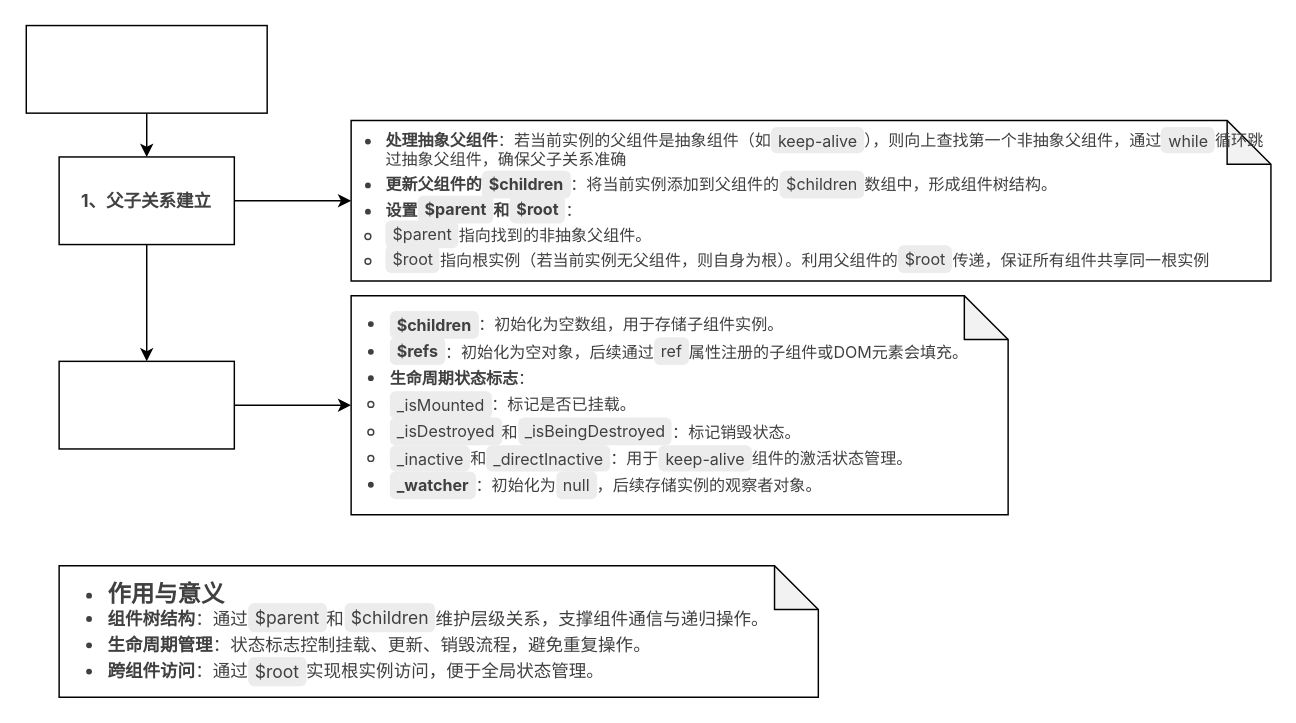
This 1296x723 diagram has some shape labels left out. The centre of each missing label's shape, as x and y in pixels:
"2、属性初始化" goes at pixel 146 404.
"initLifecycle" goes at pixel 146 68.
